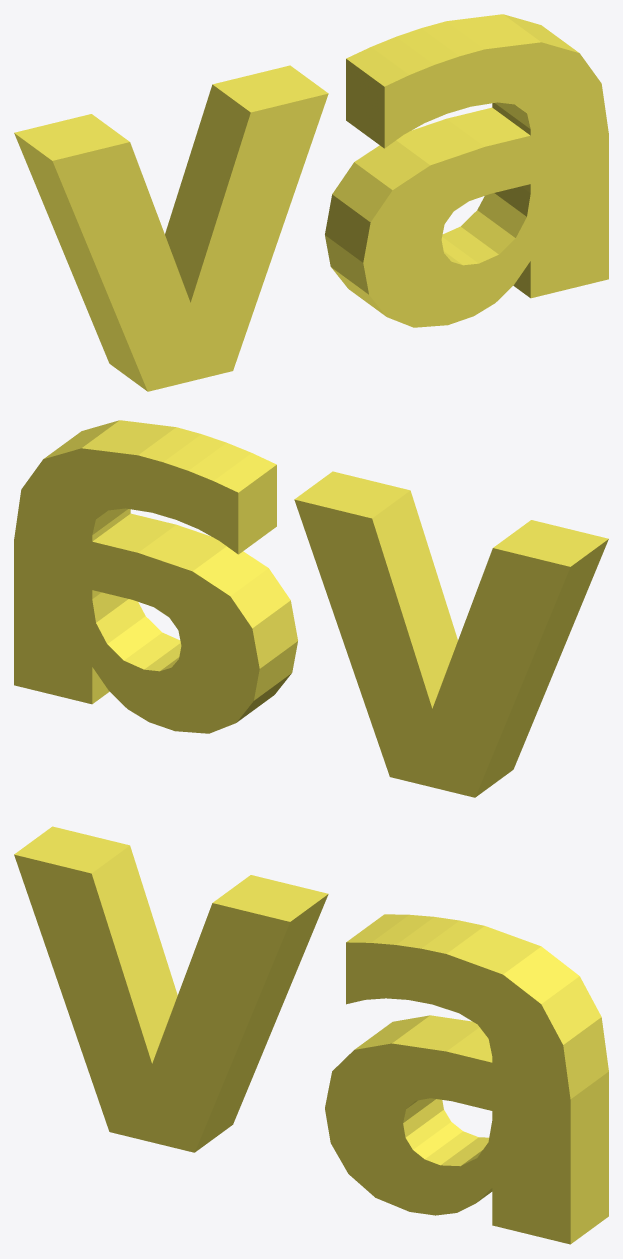
File: suku_kecil_va.glb
The picture shows the model from 3 angles, top to bottom: view 1: azimuth 30°, elevation 25°; view 2: azimuth 150°, elevation 25°; view 3: azimuth 330°, elevation 25°; orthographic projection.
Visible parts, largest first — view 1: geometry_0; view 2: geometry_0; view 3: geometry_0.
Boxes of the visible parts, x1,y1,x2,y2 form: geometry_0: (14,14,608,391); geometry_0: (14,420,608,797); geometry_0: (14,826,608,1244).
Bounding box in the file's own units: 12.53 × 5.74 × 1.5.
